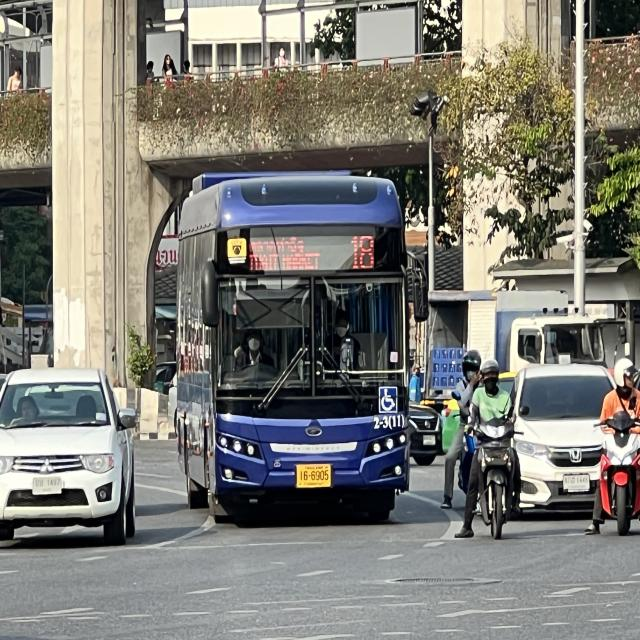Bus Line Number: (347, 228, 382, 274)
Bus Side Number: (368, 411, 406, 433)
Destination Sign: (246, 232, 323, 275)
TSB-Bus: (171, 172, 410, 528)
